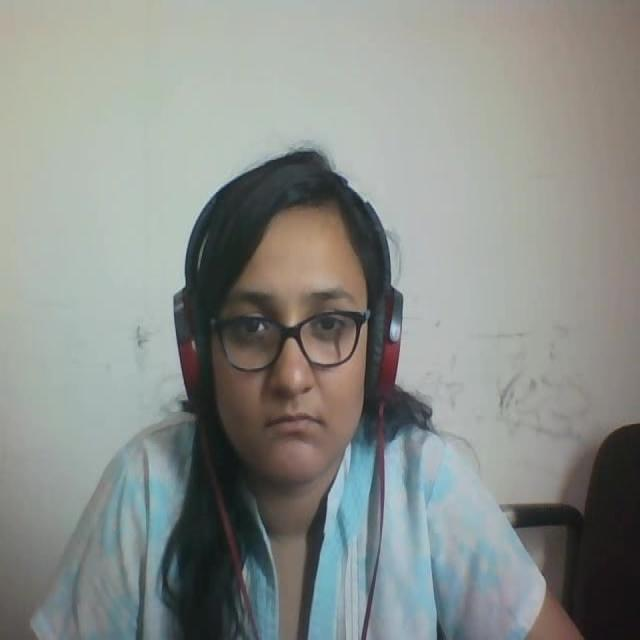Engaged: (176, 120, 409, 508)
